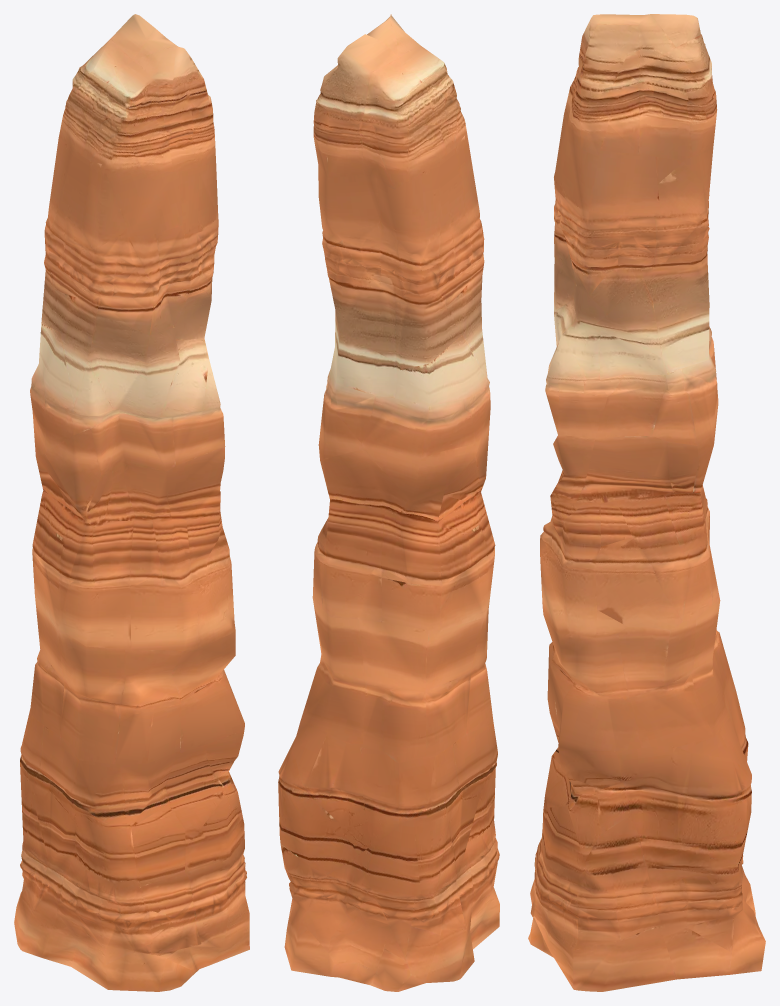
Rendered from sandstone_spire_tall.glb.
3 renders of one model, left to right at view 1: azimuth 30°, elevation 25°; view 2: azimuth 150°, elevation 25°; view 3: azimuth 270°, elevation 25°, orthographic. The views are drawn at different scales.
Bounding box in the file's own units: 0.3888 × 1.9 × 0.4322.
Materials: 1 (1 with a texture image).
